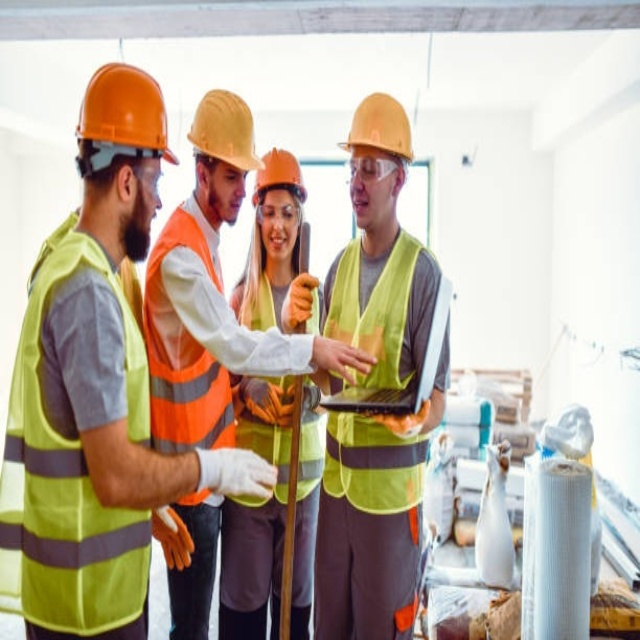Gafas: (130, 158, 167, 199), (349, 154, 398, 182), (257, 199, 299, 223)
Guantes: (191, 435, 280, 513), (237, 373, 320, 428), (154, 502, 197, 573), (275, 268, 321, 328)
Sin_gafas: (214, 162, 250, 188)
Sin_guantes: (314, 331, 380, 391)
Sin_mascara: (128, 202, 164, 251), (350, 193, 373, 223), (220, 196, 246, 221), (266, 229, 288, 257)
